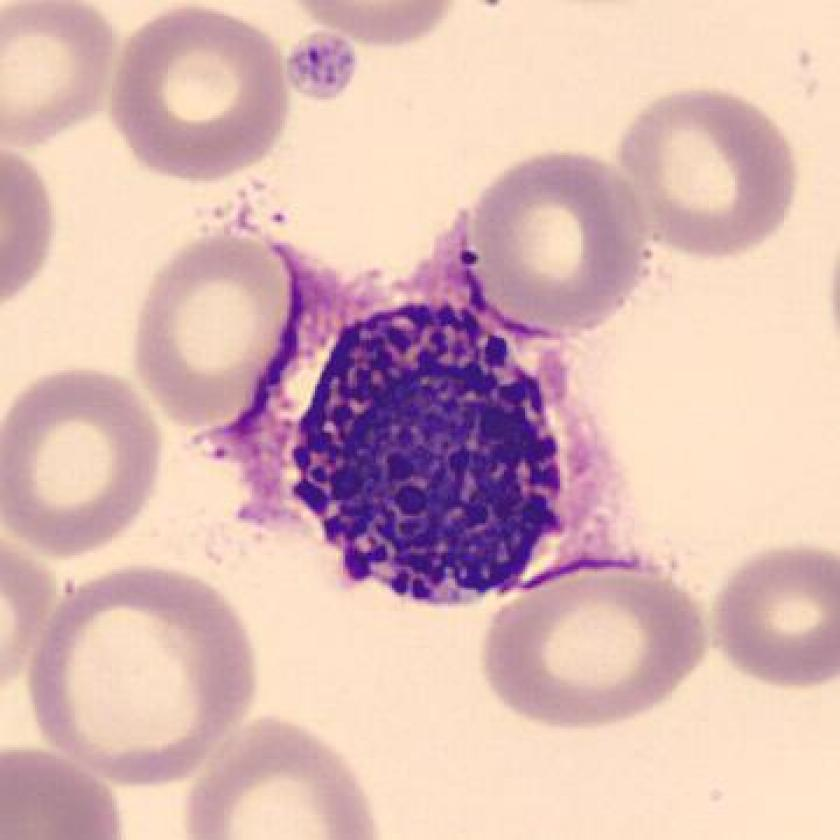basophil: (269, 281, 636, 607)
